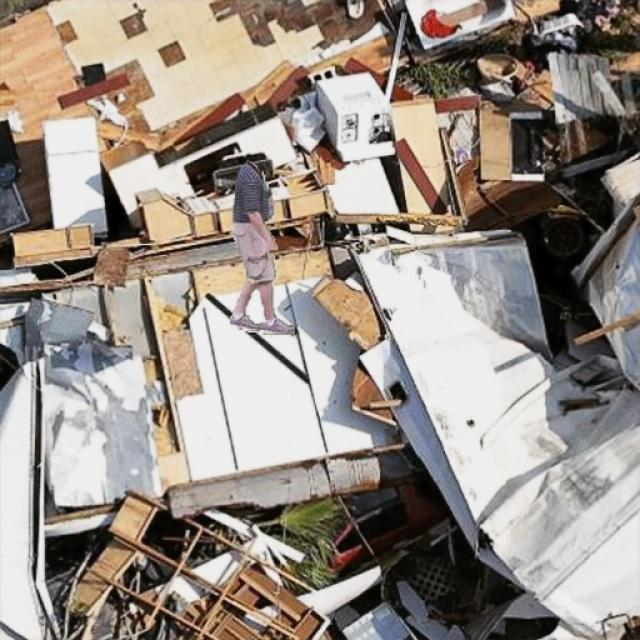Person in Rubble: (230, 160, 295, 334)
